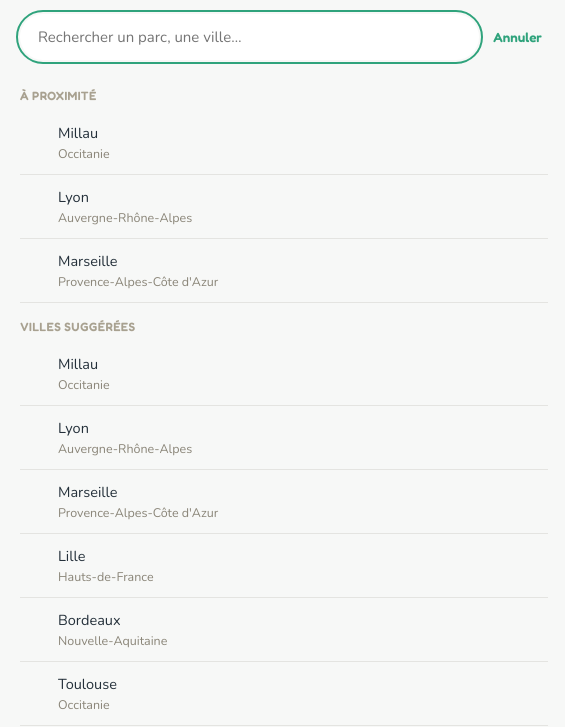
Test: SearchOverlay — ordre des sections › a park with the exact queried name keeps PARCS first, even if the place also matches exactly
This screenshot has width=565, height=727.
Step 1. Type "Barcelone" into the field with placeholder "Rechercher un parc, une ville…" → [250, 37], box left=20, top=14, right=479, bottom=60
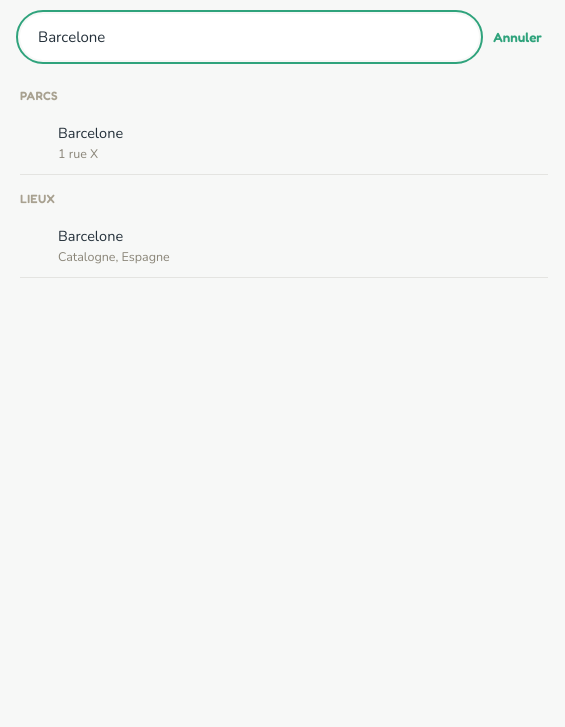
Expected: the text "1 rue X" is shown, left=58, top=145, right=98, bottom=162
Expected: the text "Catalogne, Espagne" is shown, left=58, top=248, right=170, bottom=265
